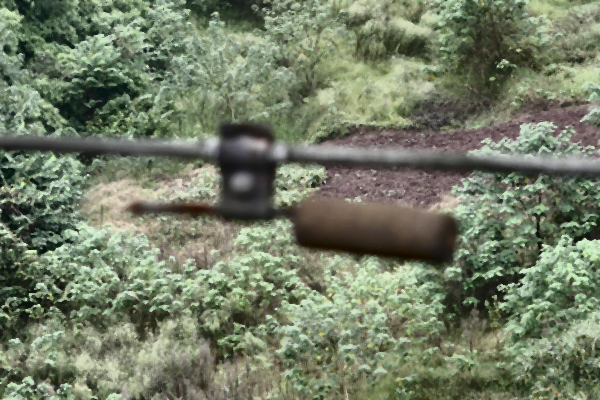damper_defect: (120, 118, 460, 267)
